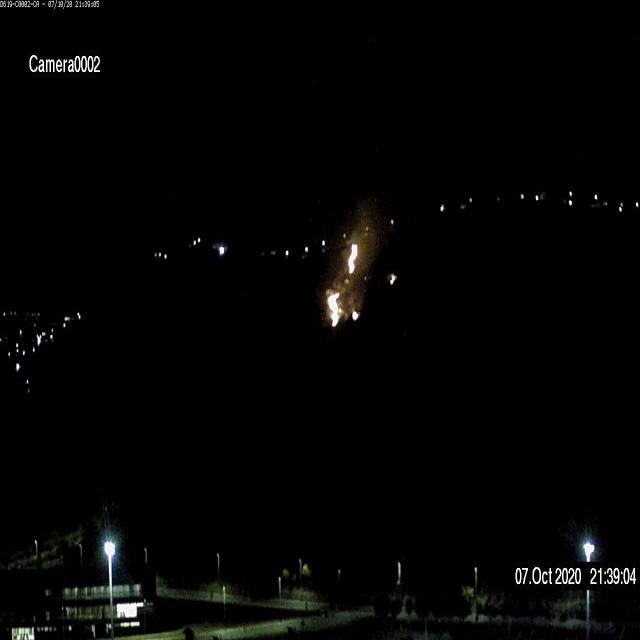Fire: (326, 236, 360, 330), (325, 289, 345, 328)
Smoke: (320, 202, 378, 332)
